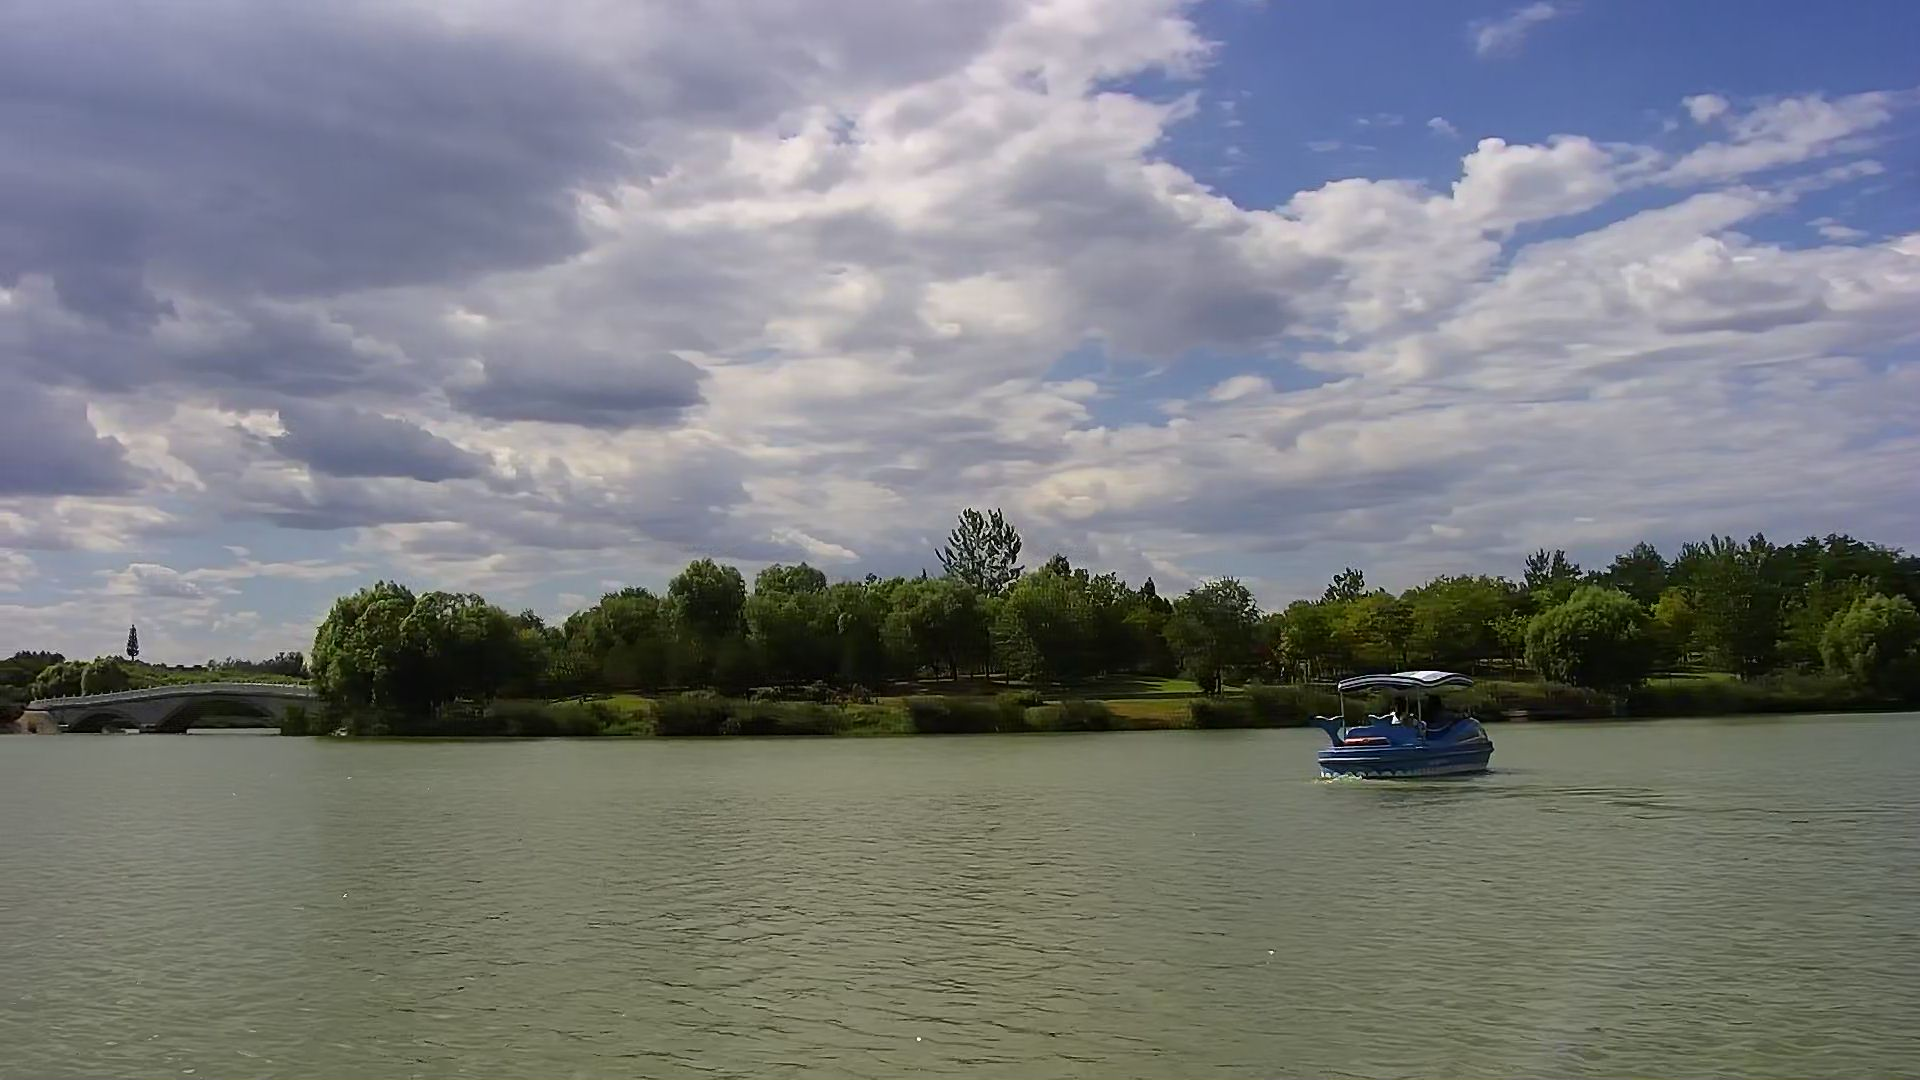boat: (1317, 667, 1495, 782)
bridge: (55, 674, 326, 742)
